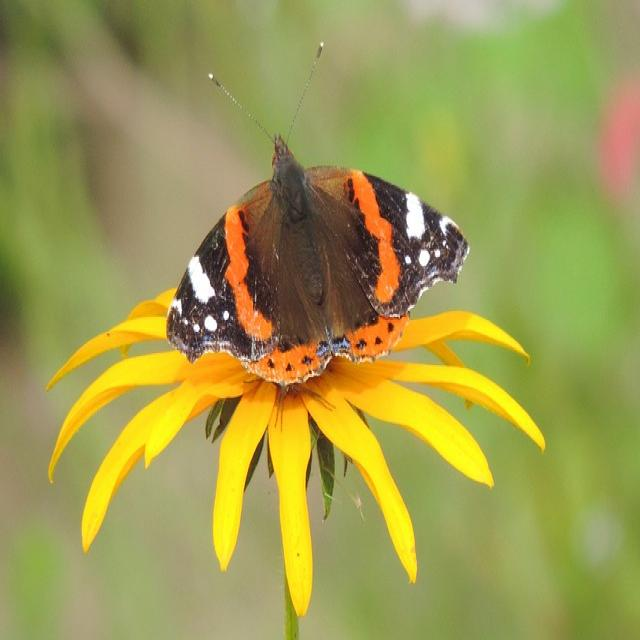butterfly: (166, 137, 470, 392)
